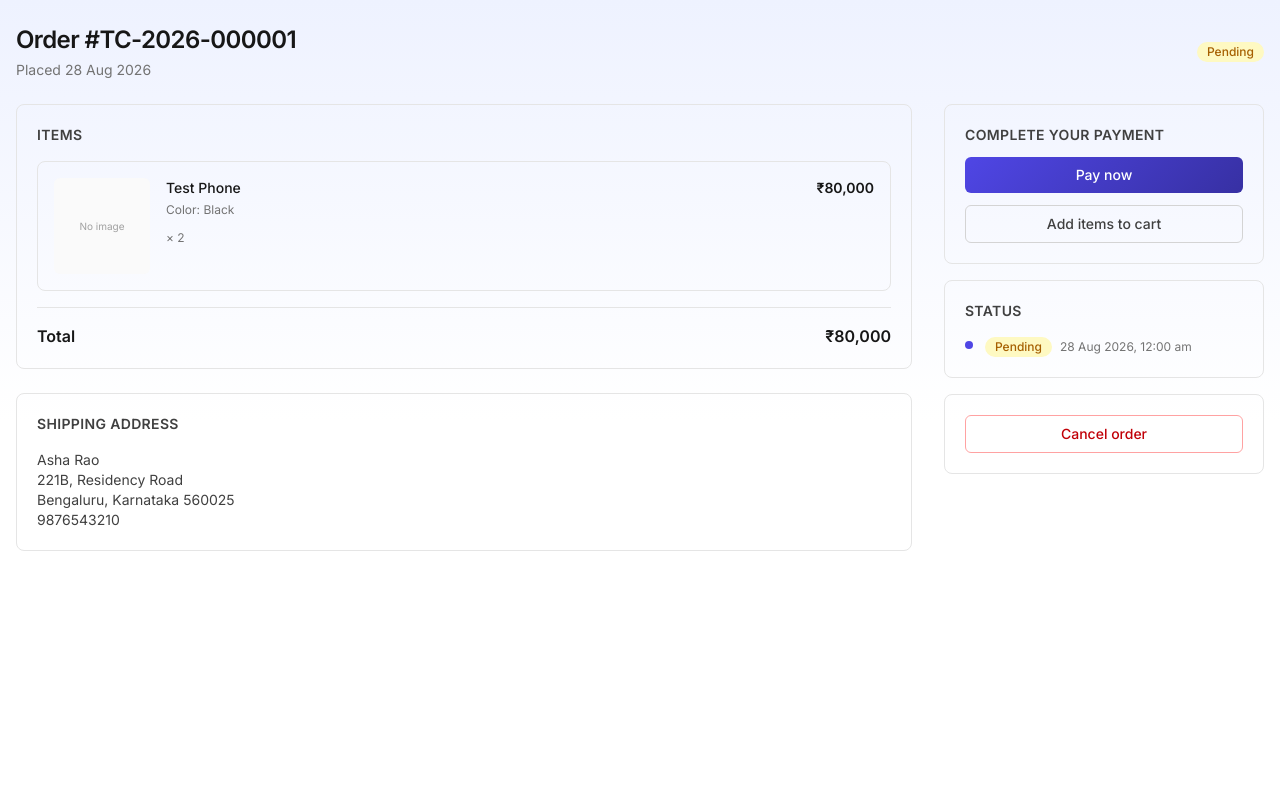
Scenario: Order detail › clicking Pay now swaps in the payment retry flow
What coordinates should you click on to do the following:
click the button "Pay now"
I would click on:
 (1104, 175)
Its box is [965,157,1243,193].
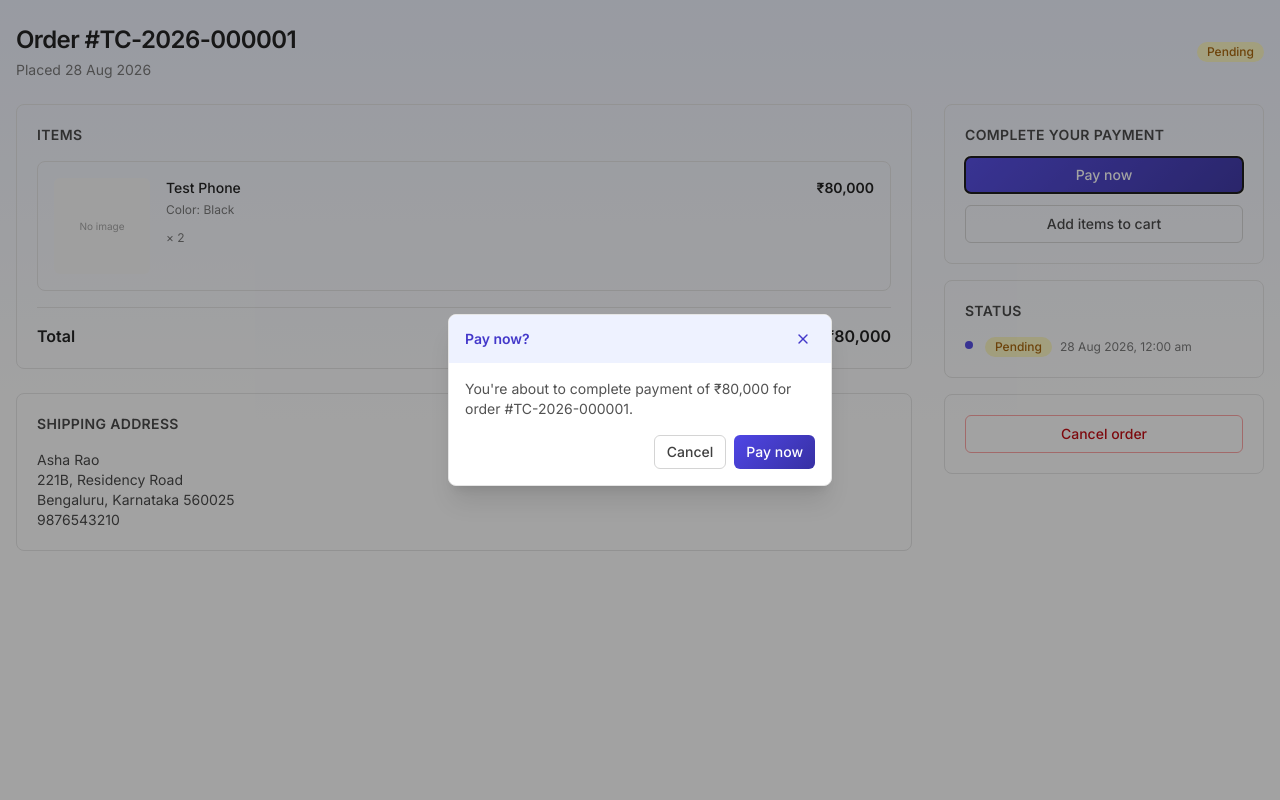
What coordinates should you click on to do the following:
click the button "Pay now"
I would click on:
 (775, 452)
Its box is [734,435,815,469].
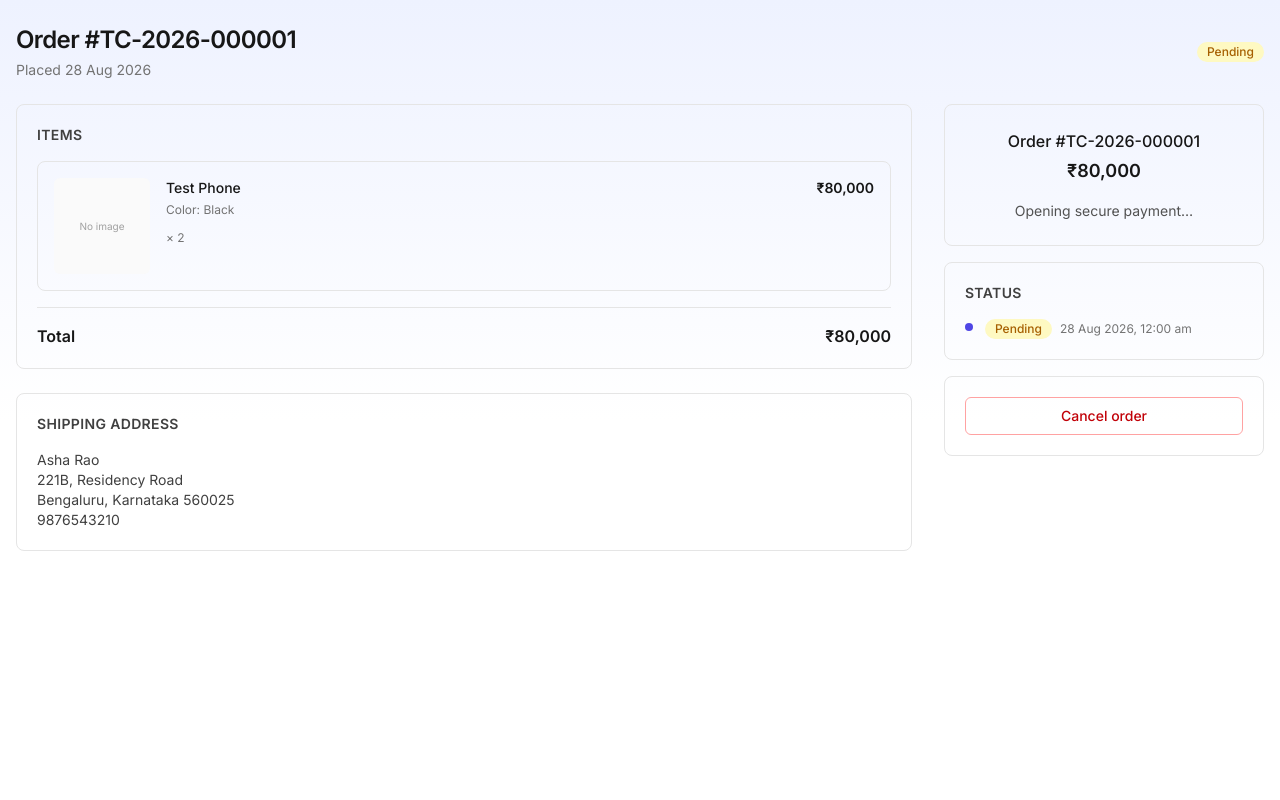
Now the button "Pay now" is gone
Now the button "Add items to cart" is gone
Now the text "Opening secure payment…" is shown, box [1015,202,1193,219]
